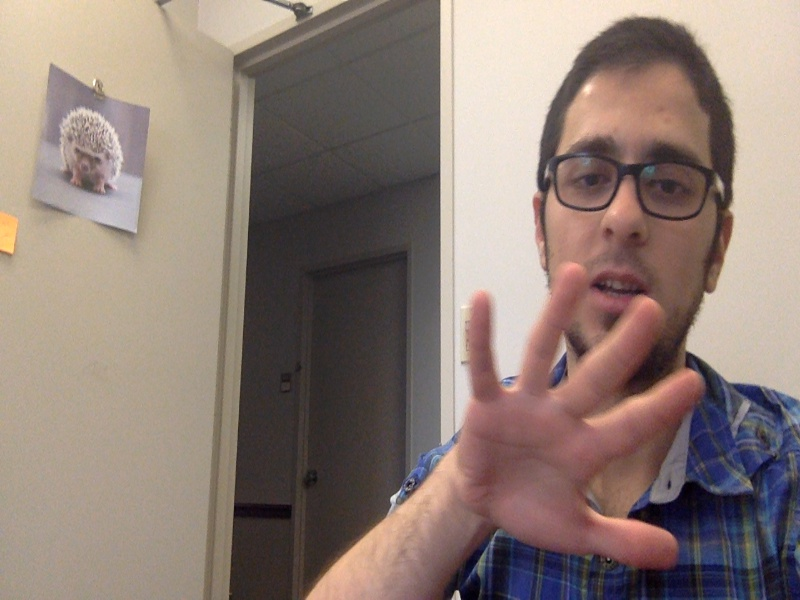5-hand: (451, 264, 704, 568)
